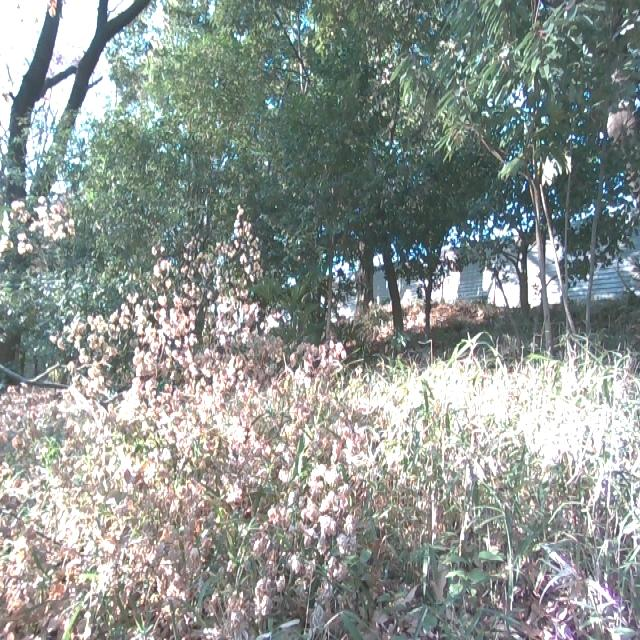bush: (0, 271, 383, 623), (390, 356, 640, 623)
tree: (0, 0, 147, 370), (479, 121, 570, 362), (369, 206, 414, 355), (340, 209, 386, 347)
